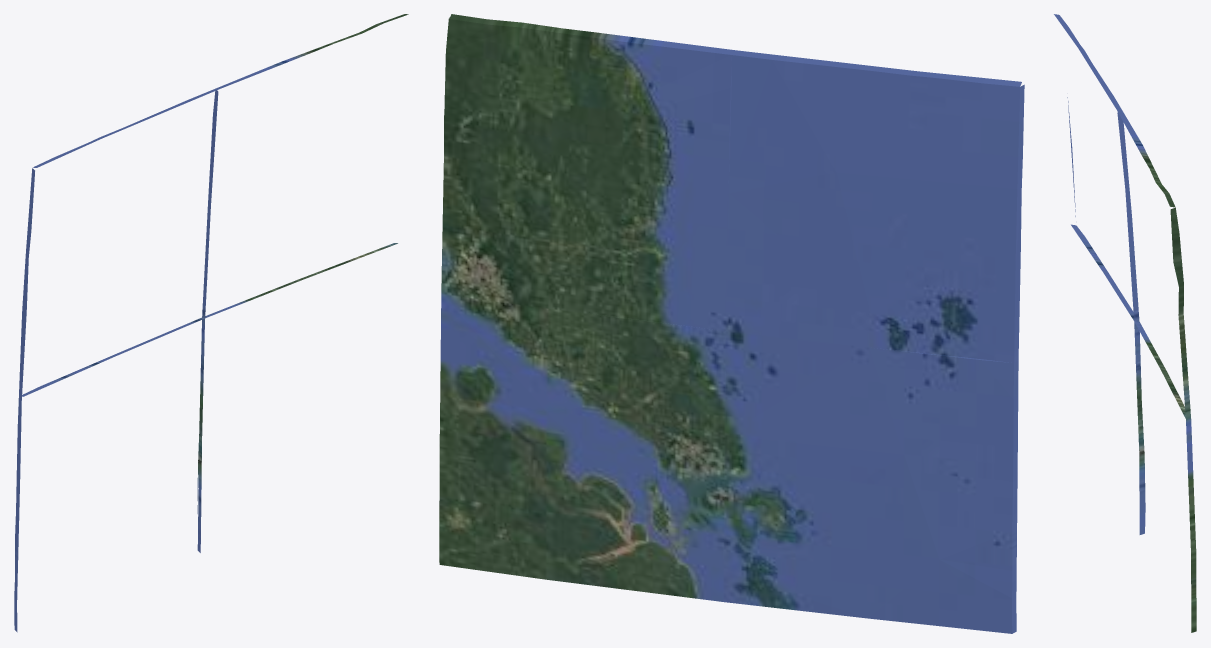
The picture shows the model from 3 angles, left to right: view 1: azimuth 30°, elevation 25°; view 2: azimuth 150°, elevation 25°; view 3: azimuth 270°, elevation 25°; orthographic projection. The views are drawn at different scales.
Size of the model in its own units: 618345 by 628188 by 190374.
Materials: 1 (1 with a texture image).
